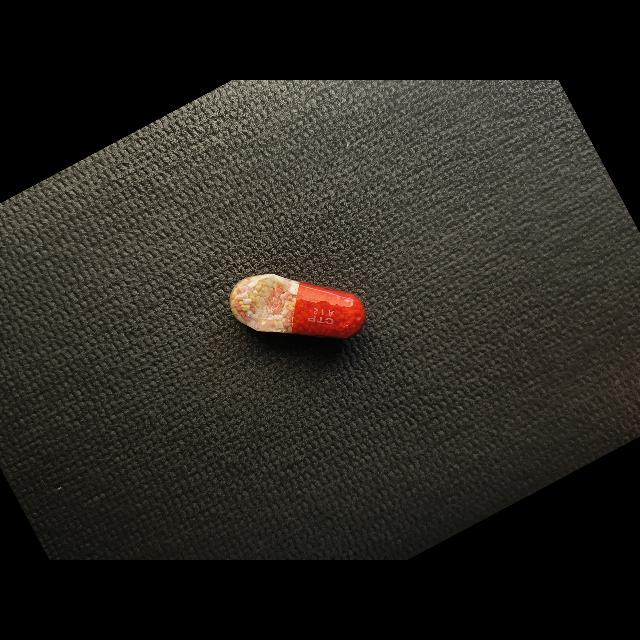Defective Capsule: (230, 274, 366, 338)
